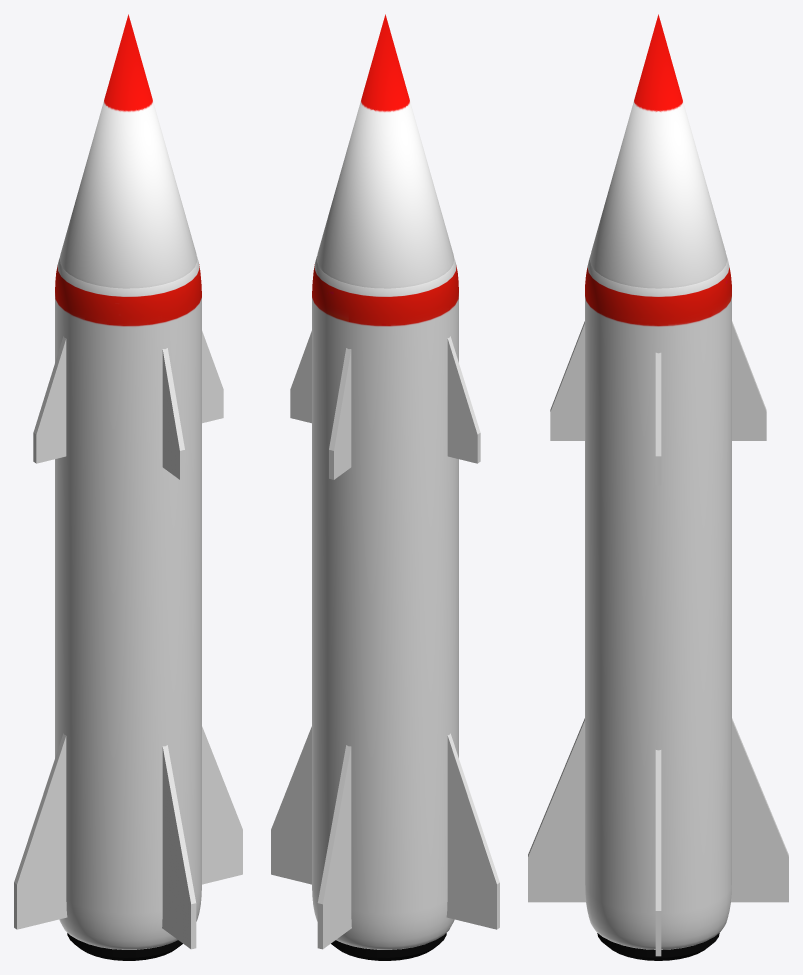
The model's file is dfsh3.glb.
The picture shows the model from 3 angles, left to right: view 1: azimuth 30°, elevation 25°; view 2: azimuth 150°, elevation 25°; view 3: azimuth 270°, elevation 25°; orthographic projection.
Visible parts, largest first — view 1: 柱体, 立方体.004, 立方体.007, 立方体.008, 立方体.002, 立方体.005, 立方体.003, 锥体.001; view 2: 柱体, 立方体.004, 立方体.006, 立方体.008, 立方体.002, 立方体.001, 立方体.003, 锥体.001; view 3: 柱体, 立方体.007, 立方体.006, 立方体.005, 立方体.001, 立方体.008, 锥体.001, 立方体.003.
Boxes of the visible parts, bbox=[...] form: 柱体: bbox=[55, 14, 201, 949]; 立方体.004: bbox=[14, 733, 67, 929]; 立方体.007: bbox=[162, 745, 196, 949]; 立方体.008: bbox=[202, 726, 242, 884]; 立方体.002: bbox=[33, 336, 66, 463]; 立方体.005: bbox=[162, 348, 184, 479]; 立方体.003: bbox=[202, 331, 223, 423]; 锥体.001: bbox=[67, 933, 182, 960]; 柱体: bbox=[312, 14, 458, 949]; 立方体.004: bbox=[446, 733, 499, 929]; 立方体.006: bbox=[317, 745, 351, 949]; 立方体.008: bbox=[271, 726, 311, 884]; 立方体.002: bbox=[447, 336, 480, 463]; 立方体.001: bbox=[329, 348, 351, 479]; 立方体.003: bbox=[290, 331, 311, 423]; 锥体.001: bbox=[331, 933, 446, 960]; 柱体: bbox=[585, 14, 731, 949]; 立方体.007: bbox=[528, 718, 585, 902]; 立方体.006: bbox=[731, 718, 788, 902]; 立方体.005: bbox=[550, 321, 584, 440]; 立方体.001: bbox=[732, 321, 766, 440]; 立方体.008: bbox=[655, 750, 661, 956]; 锥体.001: bbox=[597, 933, 719, 960]; 立方体.003: bbox=[655, 352, 661, 485].
Bounding box in the file's own units: 1.77 × 6.94 × 1.77.
13 materials, 13 textured.
